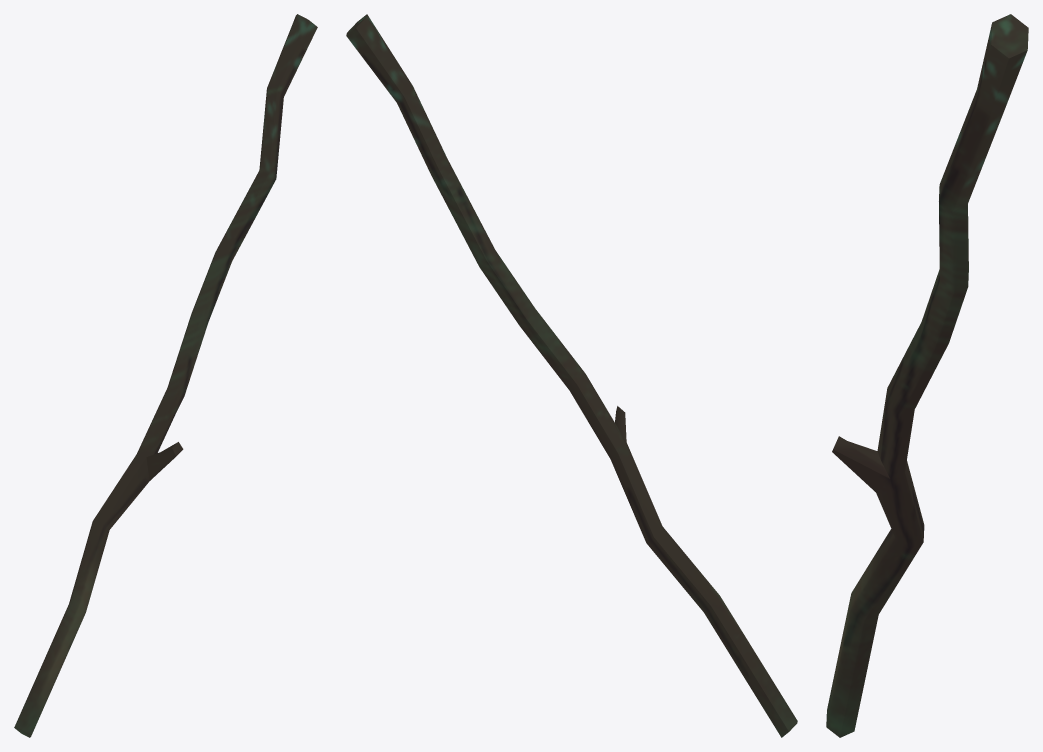
Rendered from polysurface122_lambert6_0.004_lev2.glb.
3 views of the same model, side by side, from view 1: azimuth 30°, elevation 25°; view 2: azimuth 150°, elevation 25°; view 3: azimuth 270°, elevation 25° (orthographic). The views are drawn at different scales.
Parts seen in each view (by area): view 1: polysurface122_lambert6_0.004_lev2; view 2: polysurface122_lambert6_0.004_lev2; view 3: polysurface122_lambert6_0.004_lev2.
Part boxes in pixels (box(x1,y1,x2,y2)): polysurface122_lambert6_0.004_lev2: box(14, 14, 317, 737); polysurface122_lambert6_0.004_lev2: box(346, 14, 797, 737); polysurface122_lambert6_0.004_lev2: box(826, 14, 1028, 737).
Bounding box in the file's own units: 1.55 × 2.55 × 0.4803.
Materials: 1 (1 with a texture image).
